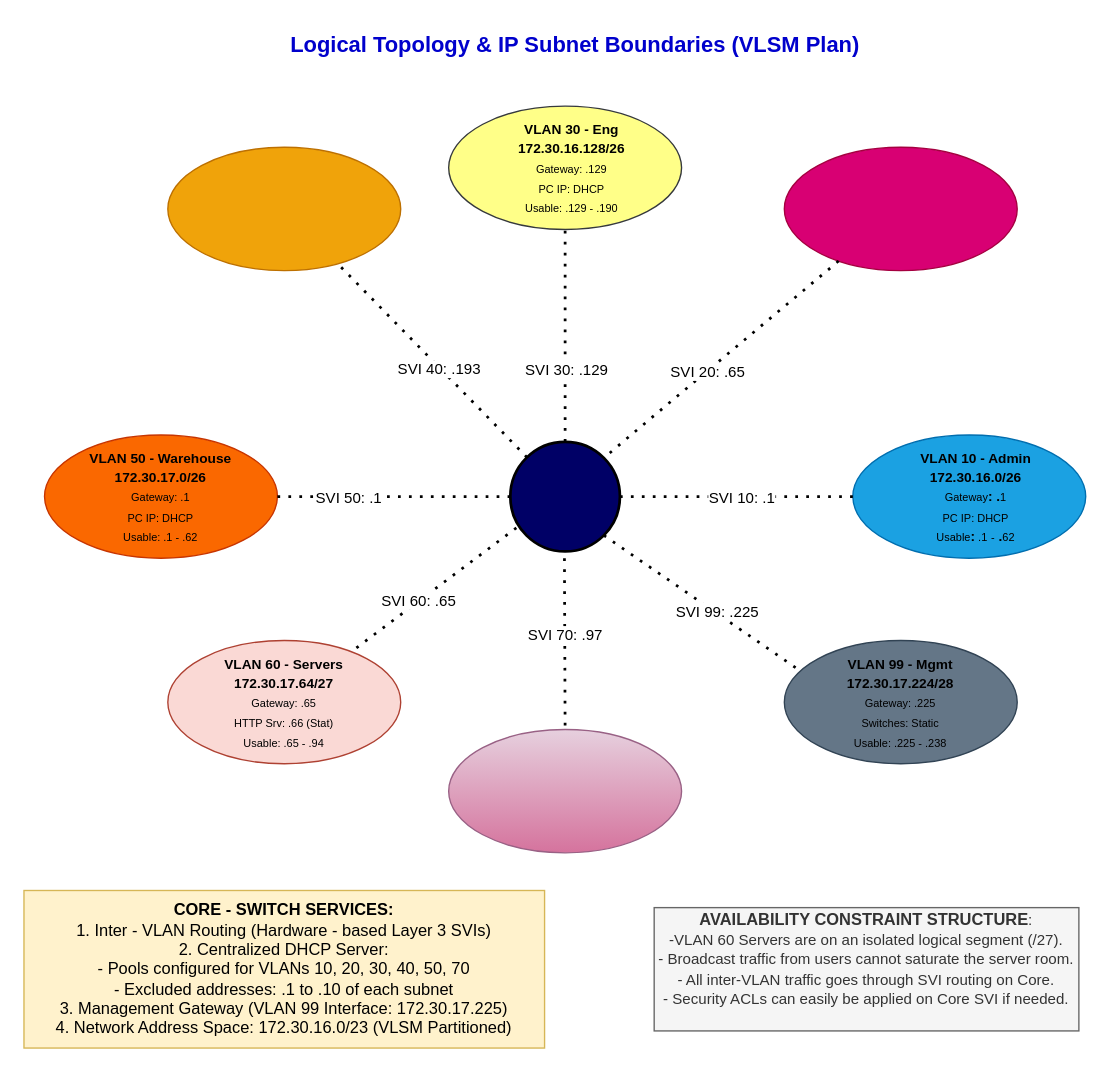
Image size: 1110x1071. Some labels were removed from this diagram. The centre of each missing label's shape, as x and y in pixels:
"VLAN 20 - Sales 172.30.16.64/26 Gateway: .65 PC IP: DHCP Usable: .65 - .126" goes at point 900,208.
"VLAN 40 - Prod 172.30.16.192/26 Gateway: .193 PC IP: DHCP Usable: .193 - .254" goes at point 283,208.
"VLAN 70 - CR2 New 172.30.17.96/27 Gateway; .97 PC IP: DHCP Usable: .97 - .126" goes at point 564,790.
